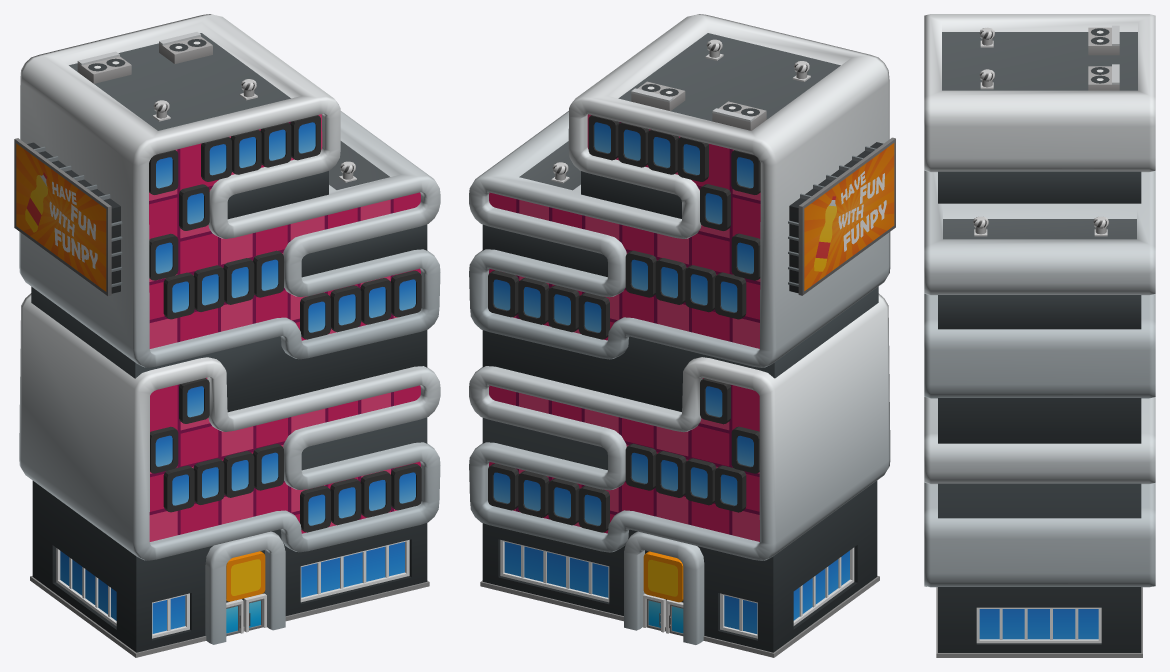
Rendered from elite_residental_building_004.glb.
3 renders of one model, left to right at view 1: azimuth 30°, elevation 25°; view 2: azimuth 150°, elevation 25°; view 3: azimuth 270°, elevation 25°, orthographic. The views are drawn at different scales.
Visible parts, largest first — view 1: elite_residental_building_004; view 2: elite_residental_building_004; view 3: elite_residental_building_004.
Part boxes in pixels (x1,y1,x2,y2): elite_residental_building_004: (14,14,440,657); elite_residental_building_004: (469,14,895,657); elite_residental_building_004: (924,14,1155,657).
Size of the model in its own units: 25.04 by 38.89 by 15.92.
3 materials, 3 textured.
